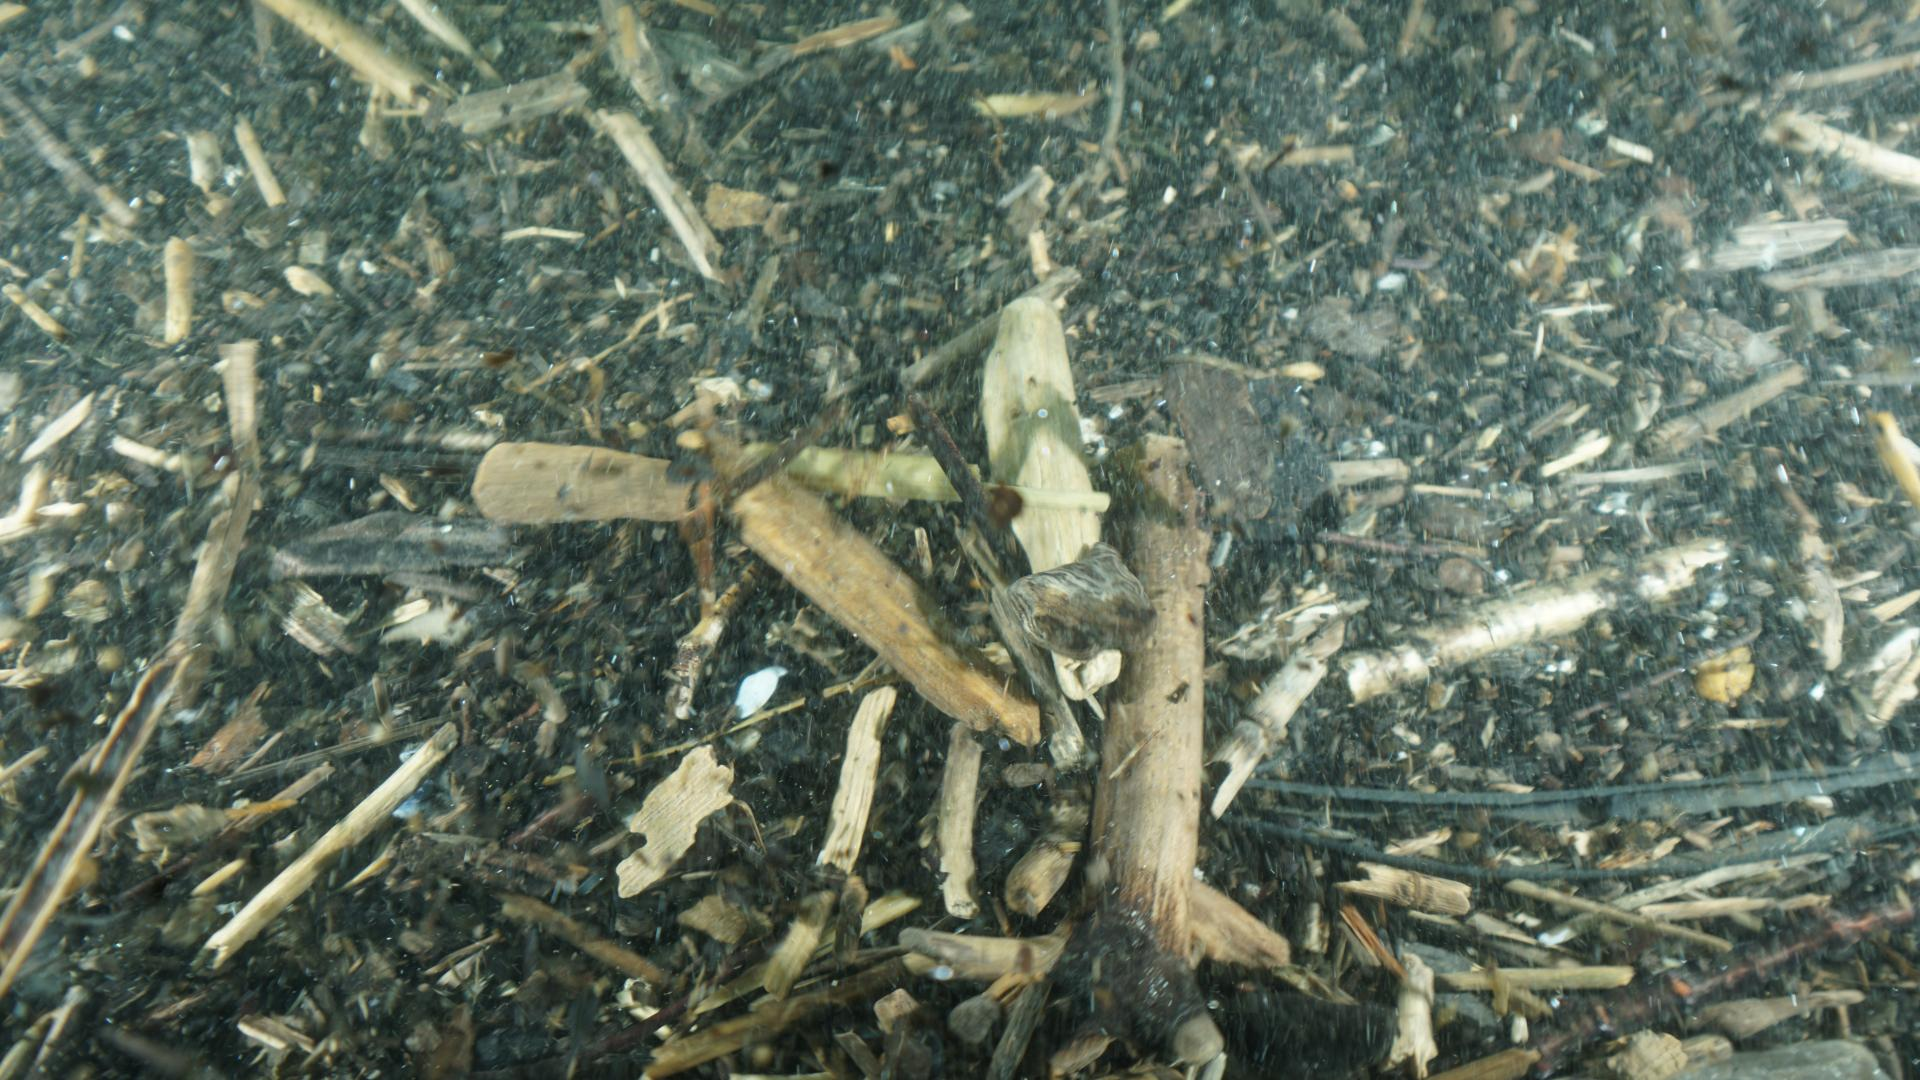wood: (897, 435, 1298, 1080), (468, 435, 1044, 748)
